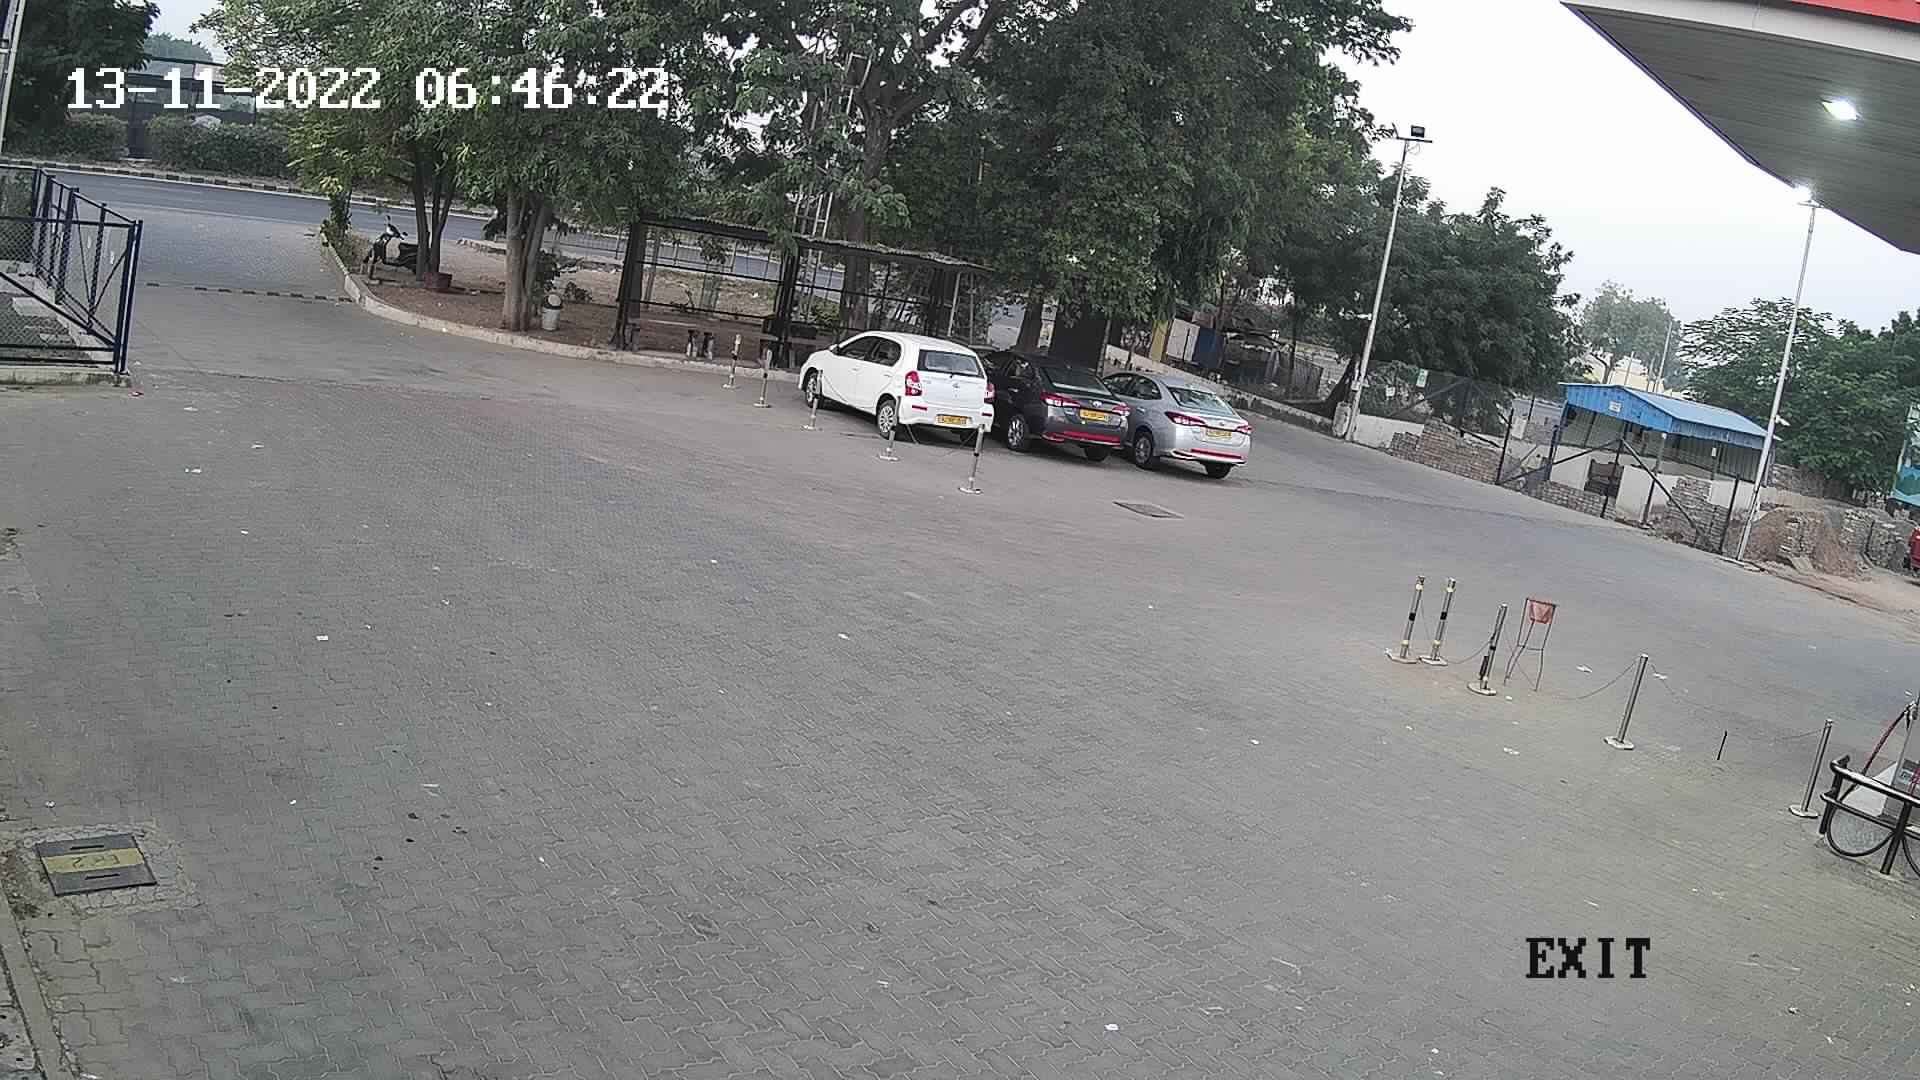Bike: (353, 215, 419, 281)
Car: (785, 320, 1009, 455), (969, 339, 1139, 467), (1093, 360, 1254, 480)
